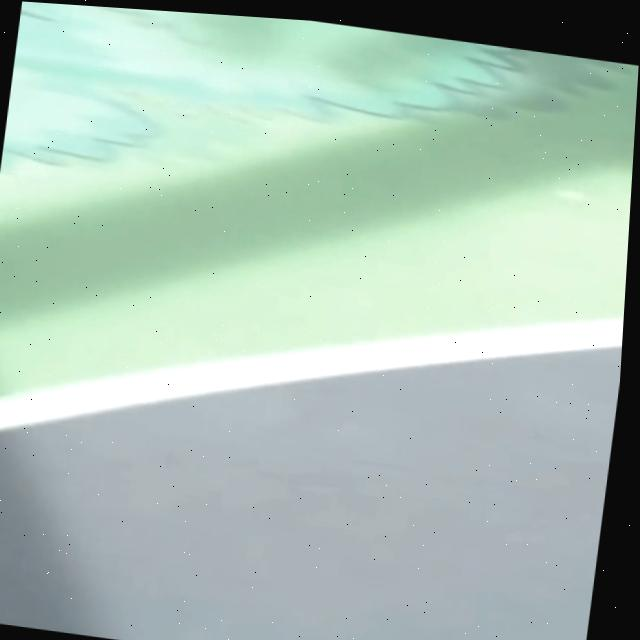right: (0, 318, 624, 430)
